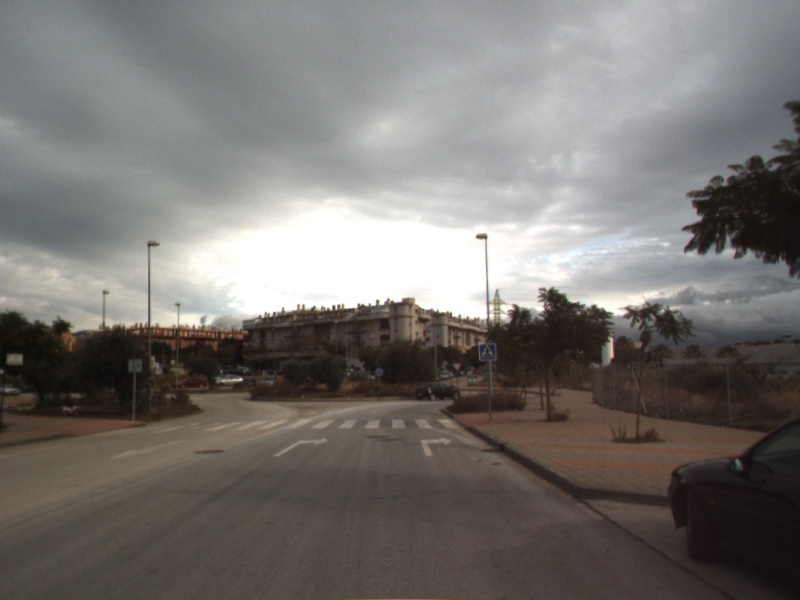RIGHT: (271, 434, 331, 458), (419, 435, 454, 458)
